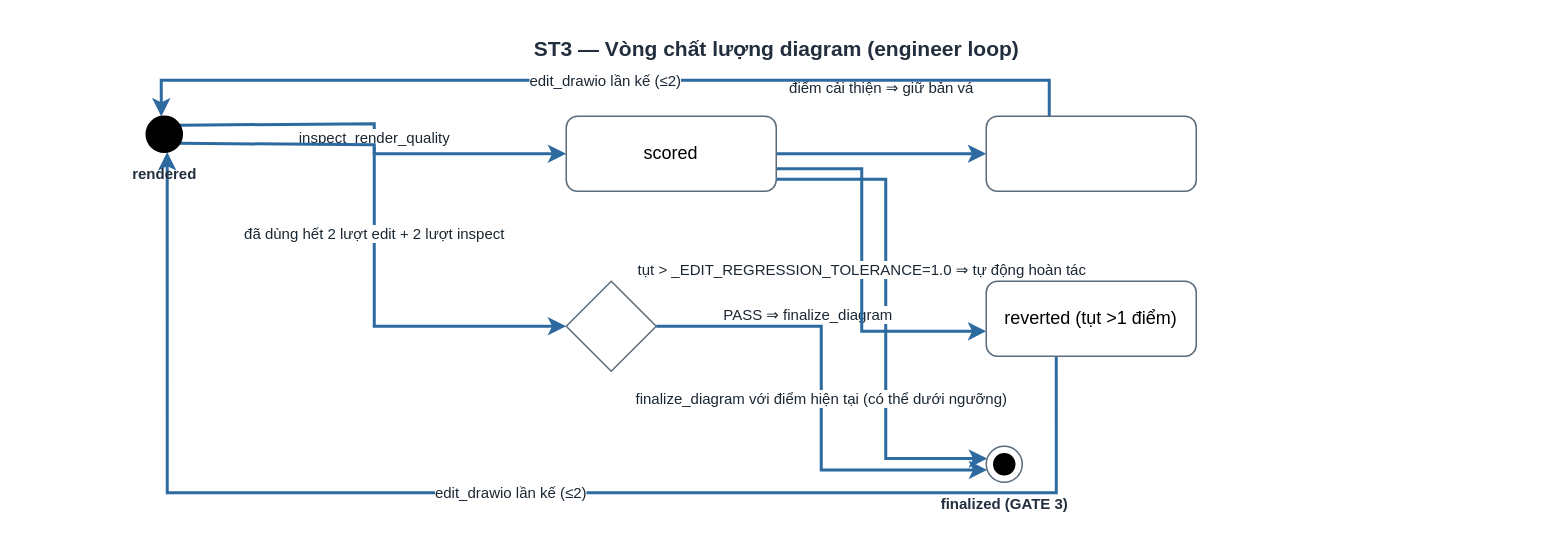
The diagram is 1551 pixels wide and 555 high, and some of its shapes have lost their labels. The shapes that lost their labels are listed below. From the top down, each one's centre as x and y in pixels, then its label:
pixel 1090 153: kept (cải thiện)
pixel 610 325: hết budget (2 edit + 2 inspect)
